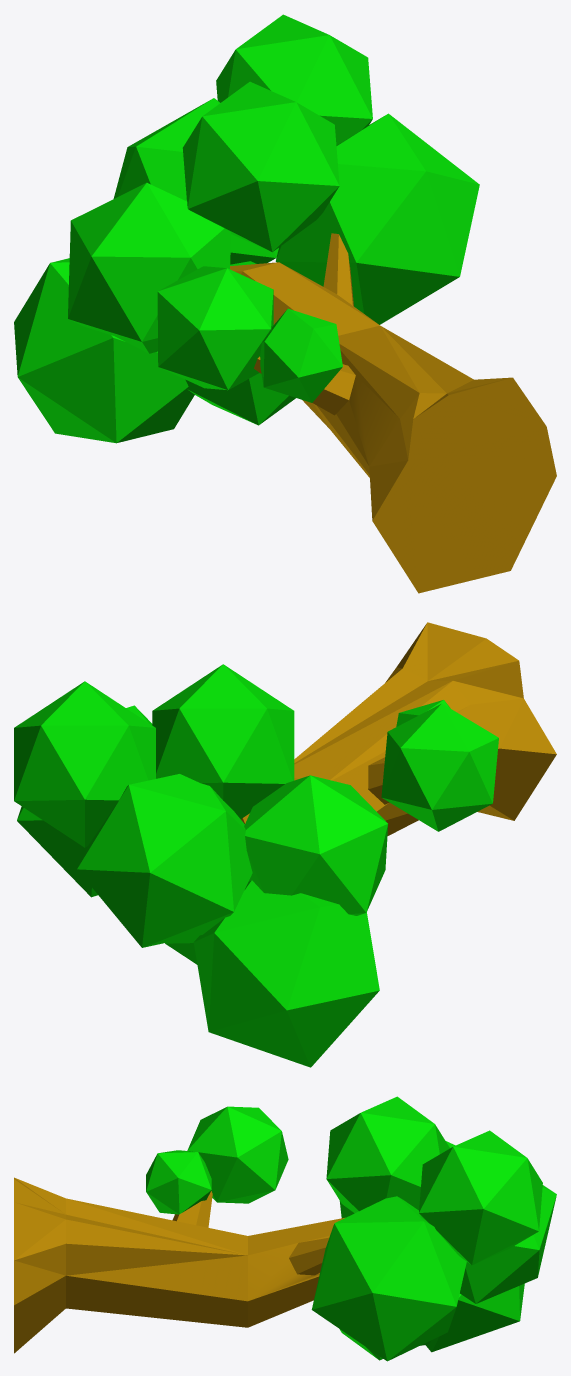
Rendered from tree_01.fbx.
The picture shows the model from 3 angles, top to bottom: view 1: azimuth 30°, elevation 25°; view 2: azimuth 150°, elevation 25°; view 3: azimuth 270°, elevation 25°; orthographic projection. The views are drawn at different scales.
Parts seen in each view (by area): view 1: Component_1_1, Mesh4, Mesh7, Mesh10, Mesh5, Mesh6, Mesh9, Mesh3, Mesh1, Mesh2; view 2: Mesh10, Component_1_1, Mesh1, Mesh9, Mesh5, Mesh7, Mesh6, Mesh4; view 3: Component_1_1, Mesh4, Mesh9, Mesh7, Mesh6, Mesh1, Mesh3, Mesh10.
Part boxes in pixels (x1,y1,x2,y2): Component_1_1: [230, 233, 556, 593]; Mesh4: [275, 113, 479, 324]; Mesh7: [182, 81, 339, 252]; Mesh10: [14, 258, 194, 443]; Mesh5: [68, 182, 230, 353]; Mesh6: [157, 266, 273, 390]; Mesh9: [216, 14, 372, 145]; Mesh3: [260, 308, 342, 402]; Mesh1: [113, 98, 278, 264]; Mesh2: [185, 261, 295, 425]; Mesh10: [193, 880, 379, 1067]; Component_1_1: [241, 622, 556, 836]; Mesh1: [77, 774, 252, 947]; Mesh9: [14, 681, 155, 847]; Mesh5: [244, 775, 388, 915]; Mesh7: [152, 664, 294, 818]; Mesh6: [381, 703, 498, 831]; Mesh4: [17, 705, 152, 897]; Component_1_1: [14, 1177, 345, 1353]; Mesh4: [311, 1196, 466, 1361]; Mesh9: [419, 1130, 542, 1265]; Mesh7: [326, 1096, 449, 1213]; Mesh6: [187, 1106, 288, 1203]; Mesh1: [460, 1185, 556, 1303]; Mesh3: [146, 1150, 211, 1214]; Mesh10: [425, 1283, 524, 1352].
Size of the model in its own units: 3023 by 2404 by 4327.
